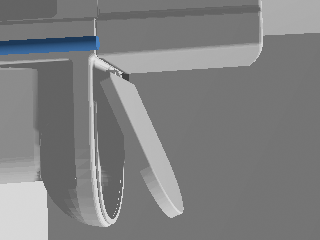lid_1: (100, 73, 183, 217)
